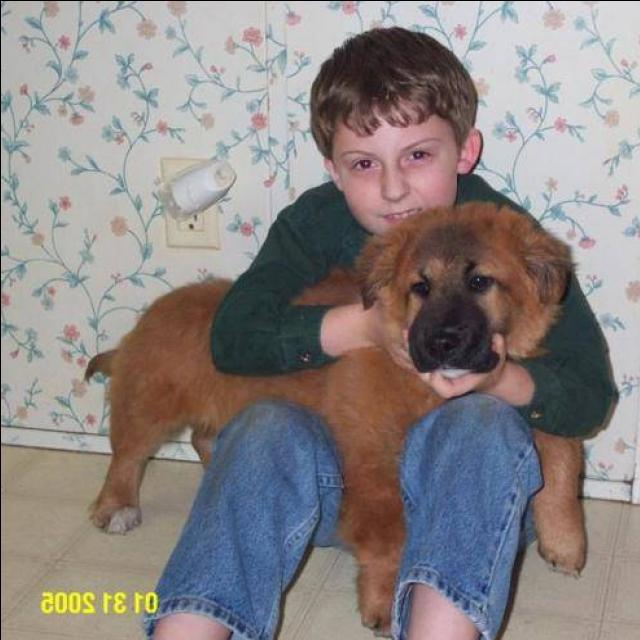dog: (40, 194, 588, 592)
